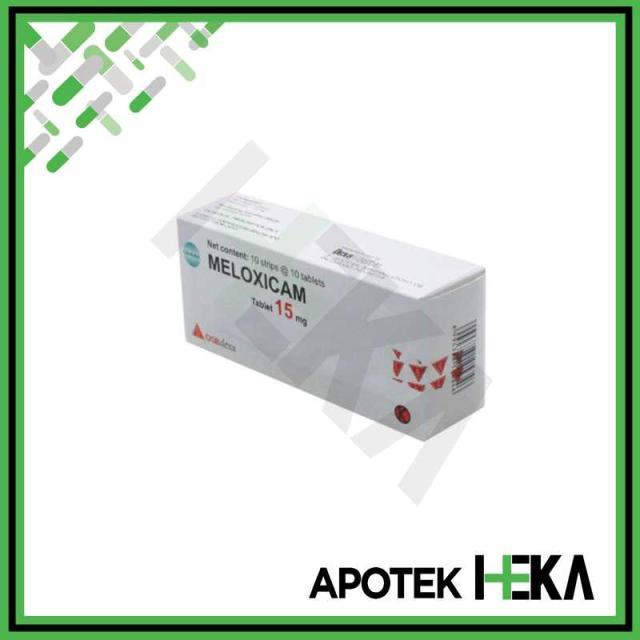drug-name: (205, 248, 312, 307)
